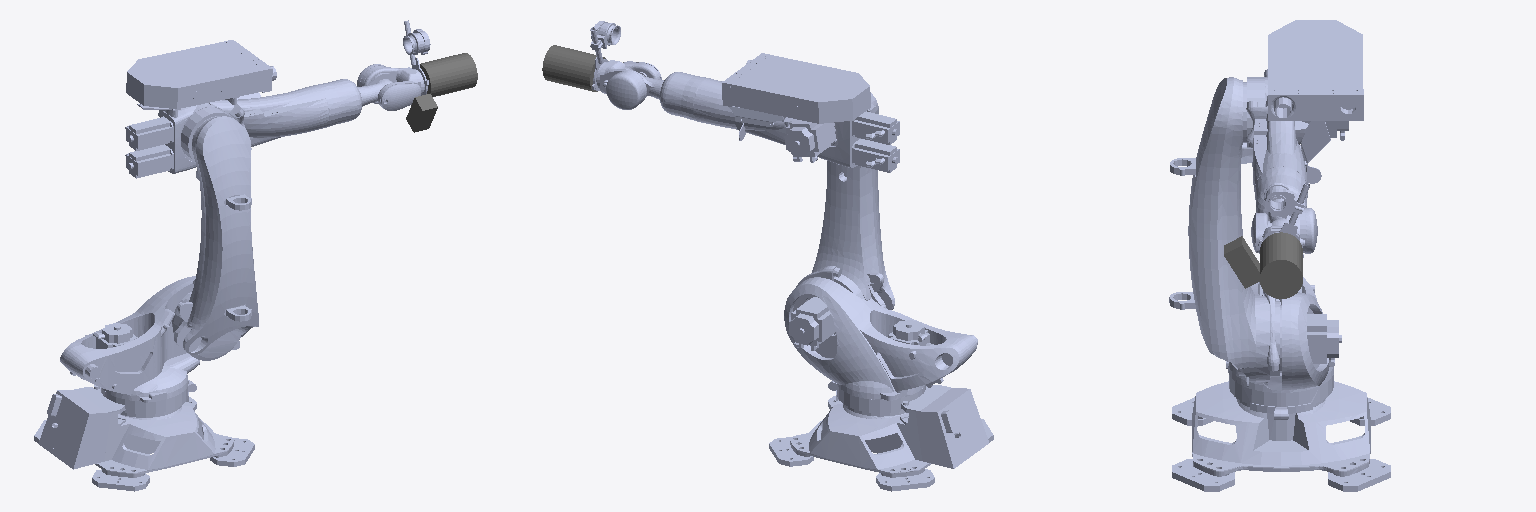
robot.urdf — KR210_R2700_extra:
<?xml version="1.0" encoding="utf-8"?>
<robot name="KR210_R2700_extra">
  
  <!-- <link name="kr210_footprint"/>

  <joint name="footprint_to_base" type="fixed">
    <parent link="kr210_footprint"/>
    <child link="kr210_base_link"/>
    <origin xyz="0 0 0" rpy="-1.5708 0 0"/>
  </joint> -->

  

  <link name="kuka_footprint"/>

  <!-- 固定虚拟关节连接 footprint 到 base_link -->
  <joint name="virtual_joint" type="fixed">
    <parent link="kuka_footprint"/>
    <child link="kr210_base_link"/>
    <origin xyz="0 0 0" rpy="-1.5708 0 0"/>
  </joint>
  
  <link
    name="kr210_base_link">
    <inertial>
      <origin
        xyz="-0.12329 0.00029575 0.11391"
        rpy="0 0 0" />
      <mass
        value="88.289" />
      <inertia
        ixx="3.3711"
        ixy="0.0097149"
        ixz="0.52176"
        iyy="6.1214"
        iyz="-0.0046973"
        izz="8.3283" />
    </inertial>
    <visual>
      <origin
        xyz="0 0 0"
        rpy="0 0 0" />
      <geometry>
        <mesh
          filename="package://display_kuka_kr210_rviz/meshes/kr210_base_link.STL" />
      </geometry>
      <material
        name="">
        <color
          rgba="0.79216 0.81961 0.93333 1" />
      </material>
    </visual>
    <collision>
      <origin
        xyz="0 0 0"
        rpy="0 0 0" />
      <geometry>
        <mesh
          filename="package://display_kuka_kr210_rviz/meshes/kr210_base_link.STL" />
      </geometry>
    </collision>
  </link>
  <link
    name="kr210_link1">
    <inertial>
      <origin
        xyz="0.00419091496574721 0.0191853086394971 0.269190520123386"
        rpy="0 0 0" />
      <mass
        value="88.8722060869493" />
      <inertia
        ixx="3.18724848948384"
        ixy="-0.633517464496378"
        ixz="-0.511333889351166"
        iyy="6.33845721966804"
        iyz="-0.261168069619429"
        izz="5.2880946733646" />
    </inertial>
    <visual>
      <origin
        xyz="0 0 0"
        rpy="0 0 0" />
      <geometry>
        <mesh
          filename="package://display_kuka_kr210_rviz/meshes/kr210_link1.STL" />
      </geometry>
      <material
        name="">
        <color
          rgba="0.792156862745098 0.819607843137255 0.933333333333333 1" />
      </material>
    </visual>
    <collision>
      <origin
        xyz="0 0 0"
        rpy="0 0 0" />
      <geometry>
        <mesh
          filename="package://display_kuka_kr210_rviz/meshes/kr210_link1.STL" />
      </geometry>
    </collision>
  </link>
  <joint
    name="joint1"
    type="revolute">
    <origin
      xyz="0 -0.2156 0"
      rpy="1.5708 0 0" />
    <parent
      link="kr210_base_link" />
    <child
      link="kr210_link1" />
    <axis
      xyz="0 0 -1" />
    <limit
      lower="-3.14"
      upper="3.14"
      effort="100"
      velocity="1" />
  </joint>
  <link
    name="kr210_link2">
    <inertial>
      <origin
        xyz="0.0027978 -0.23683 0.43208"
        rpy="0 0 0" />
      <mass
        value="96.547" />
      <inertia
        ixx="16.136"
        ixy="-0.0056688"
        ixz="-0.014745"
        iyy="15.899"
        iyz="1.7698"
        izz="1.7843" />
    </inertial>
    <visual>
      <origin
        xyz="0 0 0"
        rpy="0 0 0" />
      <geometry>
        <mesh
          filename="package://display_kuka_kr210_rviz/meshes/kr210_link2.STL" />
      </geometry>
      <material
        name="">
        <color
          rgba="0.79216 0.81961 0.93333 1" />
      </material>
    </visual>
    <collision>
      <origin
        xyz="0 0 0"
        rpy="0 0 0" />
      <geometry>
        <mesh
          filename="package://display_kuka_kr210_rviz/meshes/kr210_link2.STL" />
      </geometry>
    </collision>
  </link>
  <joint
    name="joint2"
    type="revolute">
    <origin
      xyz="0.35 0 0.4594"
      rpy="0 0 0" />
    <parent
      link="kr210_link1" />
    <child
      link="kr210_link2" />
    <axis
      xyz="0 -1 0" />
    <limit
      lower="-3.14"
      upper="3.14"
      effort="100"
      velocity="1" />
  </joint>
  <link
    name="kr210_link3">
    <inertial>
      <origin
        xyz="0.18165 0.054243 0.066543"
        rpy="0 0 0" />
      <mass
        value="119.14" />
      <inertia
        ixx="4.3385"
        ixy="0.79293"
        ixz="1.4621"
        iyy="15.461"
        iyz="-1.1248"
        izz="14.851" />
    </inertial>
    <visual>
      <origin
        xyz="0 0 0"
        rpy="0 0 0" />
      <geometry>
        <mesh
          filename="package://display_kuka_kr210_rviz/meshes/kr210_link3.STL" />
      </geometry>
      <material
        name="">
        <color
          rgba="0.79216 0.81961 0.93333 1" />
      </material>
    </visual>
    <collision>
      <origin
        xyz="0 0 0"
        rpy="0 0 0" />
      <geometry>
        <mesh
          filename="package://display_kuka_kr210_rviz/meshes/kr210_link3.STL" />
      </geometry>
    </collision>
  </link>
  <joint
    name="joint3"
    type="revolute">
    <origin
      xyz="0 0 1.15"
      rpy="0 0 0" />
    <parent
      link="kr210_link2" />
    <child
      link="kr210_link3" />
    <axis
      xyz="0 -1 0" />
    <limit
      lower="-3.14"
      upper="3.14"
      effort="100"
      velocity="1" />
  </joint>
  <link
    name="kr210_link4">
    <inertial>
      <origin
        xyz="0.132079953309161 0.00135411558462281 -6.25620506955471E-06"
        rpy="0 0 0" />
      <mass
        value="3.49282768845098" />
      <inertia
        ixx="0.00854408204343117"
        ixy="-0.000802619889318926"
        ixz="-1.17218435695788E-06"
        iyy="0.0373645445404462"
        iyz="-9.45475013202612E-08"
        izz="0.0368830471592641" />
    </inertial>
    <visual>
      <origin
        xyz="0 0 0"
        rpy="0 0 0" />
      <geometry>
        <mesh
          filename="package://display_kuka_kr210_rviz/meshes/kr210_link4.STL" />
      </geometry>
      <material
        name="">
        <color
          rgba="0.792156862745098 0.819607843137255 0.933333333333333 1" />
      </material>
    </visual>
    <collision>
      <origin
        xyz="0 0 0"
        rpy="0 0 0" />
      <geometry>
        <mesh
          filename="package://display_kuka_kr210_rviz/meshes/kr210_link4.STL" />
      </geometry>
    </collision>
  </link>
  <joint
    name="joint4"
    type="revolute">
    <origin
      xyz="0.9445 0 -0.041"
      rpy="0 0 0" />
    <parent
      link="kr210_link3" />
    <child
      link="kr210_link4" />
    <axis
      xyz="1 0 0" />
    <limit
      lower="-3.14"
      upper="3.14"
      effort="100"
      velocity="1" />
  </joint>
  <link
    name="kr210_link5">
    <inertial>
      <origin
        xyz="0.046703 0.024001 -5.0913E-05"
        rpy="0 0 0" />
      <mass
        value="8.4727" />
      <inertia
        ixx="0.082604"
        ixy="0.013295"
        ixz="3.8669E-05"
        iyy="0.068368"
        iyz="3.0301E-05"
        izz="0.11537" />
    </inertial>
    <visual>
      <origin
        xyz="0 0 0"
        rpy="0 0 0" />
      <geometry>
        <mesh
          filename="package://display_kuka_kr210_rviz/meshes/kr210_link5.STL" />
      </geometry>
      <material
        name="">
        <color
          rgba="0.79216 0.81961 0.93333 1" />
      </material>
    </visual>
    <collision>
      <origin
        xyz="0 0 0"
        rpy="0 0 0" />
      <geometry>
        <mesh
          filename="package://display_kuka_kr210_rviz/meshes/kr210_link5.STL" />
      </geometry>
    </collision>
  </link>
  <joint
    name="joint5"
    type="revolute">
    <origin
      xyz="0.2555 0 0"
      rpy="0 0 0" />
    <parent
      link="kr210_link4" />
    <child
      link="kr210_link5" />
    <axis
      xyz="0 1 0" />
    <limit
      lower="-3.14"
      upper="3.14"
      effort="100"
      velocity="1" />
  </joint>
  <link
    name="kr210_link6">
    <inertial>
      <origin
        xyz="0.070718 0.011372 0.15736"
        rpy="0 0 0" />
      <mass
        value="1.4067" />
      <inertia
        ixx="0.02282"
        ixy="-6.2607E-05"
        ixz="0.00010038"
        iyy="0.020338"
        iyz="-0.00066642"
        izz="0.0037701" />
    </inertial>
    <visual>
      <origin
        xyz="0 0 0"
        rpy="0 0 0" />
      <geometry>
        <mesh
          filename="package://display_kuka_kr210_rviz/meshes/kr210_link6.STL" />
      </geometry>
      <material
        name="">
        <color
          rgba="0.79216 0.81961 0.93333 1" />
      </material>
    </visual>
    <collision>
      <origin
        xyz="0 0 0"
        rpy="0 0 0" />
      <geometry>
        <mesh
          filename="package://display_kuka_kr210_rviz/meshes/kr210_link6.STL" />
      </geometry>
    </collision>
  </link>
  <joint
    name="joint6"
    type="revolute">
    <origin
      xyz="0.13171 0 0"
      rpy="0 0 0" />
    <parent
      link="kr210_link5" />
    <child
      link="kr210_link6" />
    <axis
      xyz="-1 0 0" />
    <limit
      lower="-3.14"
      upper="3.14"
      effort="100"
      velocity="1" />
  
  </joint>
    <link name="tool0">
    <visual>
      <origin xyz="-0.15 0 0" rpy="0 1.5708 0"/>
      <geometry>
        <cylinder radius="0.1" length="0.3"/> 
      </geometry>
      <material name="gray">
        <color rgba="0.5 0.5 0.5 1"/>
      </material>
    </visual>
    <collision>
    <origin xyz="-0.15 0 0" rpy="0 1.5708 0"/>
    <geometry>
      <cylinder radius="0.1" length="0.3"/>
    </geometry>
  </collision>
  </link>

  <joint name="joint_tool0" type="fixed">
    <parent link="kr210_link6"/>
    <child link="tool0"/>
    <origin xyz="0.4 0 0" rpy="0 0 0"/>
  </joint>
  

<!-- Camera Mount -->
<link name="camera_position">
  <visual>
    <origin xyz="0 0 0" rpy="0 0 0"/>
    <geometry>
      <!-- 小方块，边长 0.05 m -->
      <box size="0.2 0.1 0.1"/>
    </geometry>
    <material name="gray">
      <color rgba="0.5 0.5 0.5 1"/>
    </material>
  </visual>
  <collision>
    <origin xyz="0 0 0" rpy="0 0 0"/>
    <geometry>
      <box size="0.2 0.1 0.1"/>
    </geometry>
  </collision>
</link>

<!-- 固定关节，将 camera_position 挂到 kr210_link6 上 -->
<joint name="joint_camera_position" type="fixed">
  <parent link="kr210_link6"/>
  <child link="camera_position"/>
 
  <origin xyz="0.0 -0.1732 -0.1" rpy="-1.5708 -1.0472 -1.5708"/>
</joint>

</robot>

--- Facts derived from the render (not from the file) ---
Views: 3 orthographic renders of the robot side by side, from view 1: azimuth 30°, elevation 25°; view 2: azimuth 150°, elevation 25°; view 3: azimuth 270°, elevation 25°.
Model KR210_R2700_extra with 10 links and 9 joints (6 revolute, 3 fixed), rooted at kuka_footprint, posed every joint at zero.
Visible links, largest first — view 1: kr210_link3, kr210_link2, kr210_base_link, kr210_link1, tool0, kr210_link5, kr210_link6, camera_position, kr210_link4; view 2: kr210_link3, kr210_link1, kr210_base_link, kr210_link2, kr210_link5, tool0, kr210_link6; view 3: kr210_link2, kr210_link3, kr210_base_link, kr210_link1, tool0, kr210_link5, kr210_link6, camera_position.
Link boxes in pixels (left/top/right/bottom): kr210_link3: left=125, top=40, right=361, bottom=178; kr210_link2: left=172, top=116, right=258, bottom=360; kr210_base_link: left=34, top=385, right=254, bottom=491; kr210_link1: left=60, top=276, right=199, bottom=417; tool0: left=420, top=53, right=477, bottom=96; kr210_link5: left=357, top=64, right=423, bottom=110; kr210_link6: left=403, top=20, right=430, bottom=94; camera_position: left=406, top=94, right=437, bottom=132; kr210_link4: left=358, top=73, right=396, bottom=106; kr210_link3: left=660, top=53, right=899, bottom=172; kr210_link1: left=784, top=277, right=977, bottom=416; kr210_base_link: left=769, top=385, right=993, bottom=491; kr210_link2: left=786, top=93, right=894, bottom=309; kr210_link5: left=597, top=60, right=661, bottom=109; tool0: left=542, top=45, right=605, bottom=91; kr210_link6: left=590, top=21, right=620, bottom=90; kr210_link2: left=1169, top=77, right=1281, bottom=386; kr210_link3: left=1243, top=20, right=1363, bottom=212; kr210_base_link: left=1172, top=381, right=1390, bottom=491; kr210_link1: left=1226, top=277, right=1341, bottom=419; tool0: left=1260, top=232, right=1302, bottom=298; kr210_link5: left=1251, top=208, right=1317, bottom=253; kr210_link6: left=1258, top=183, right=1309, bottom=257; camera_position: left=1224, top=236, right=1259, bottom=288.
Bounding box of the posed robot: 2.65 × 1.02 × 2.18 m (x, y, z).
Meshes: 7 distinct files referenced, 7 mesh visuals loaded (7 binary STL).
